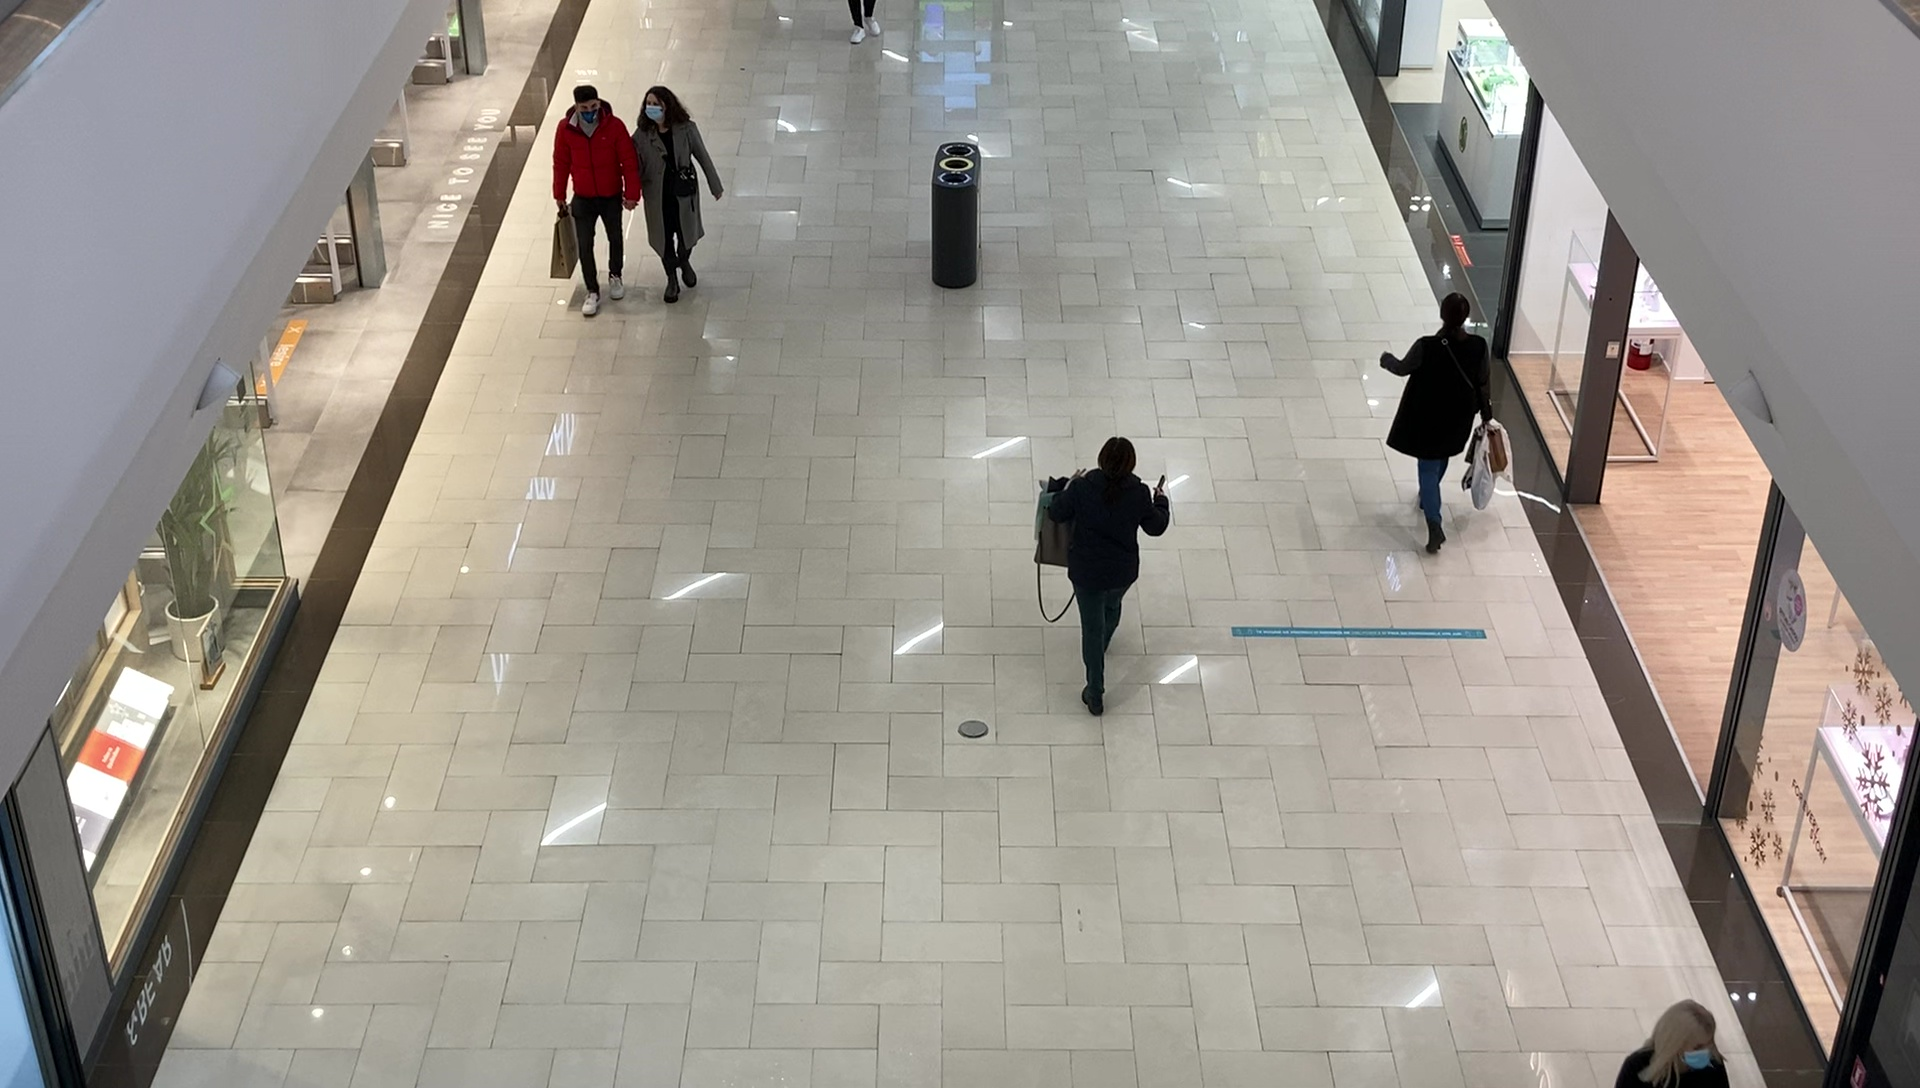person: (1049, 436, 1171, 720), (1382, 292, 1494, 553), (628, 87, 723, 305), (552, 84, 640, 316), (1615, 999, 1730, 1088)
